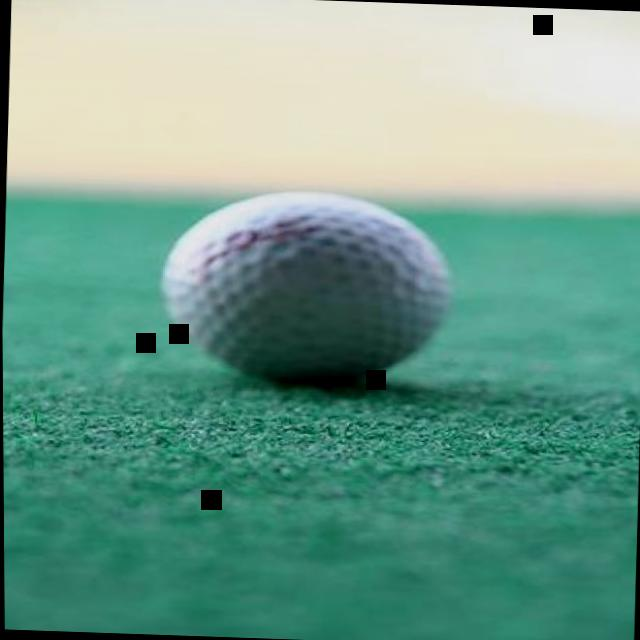golf ball: (141, 182, 467, 402)
